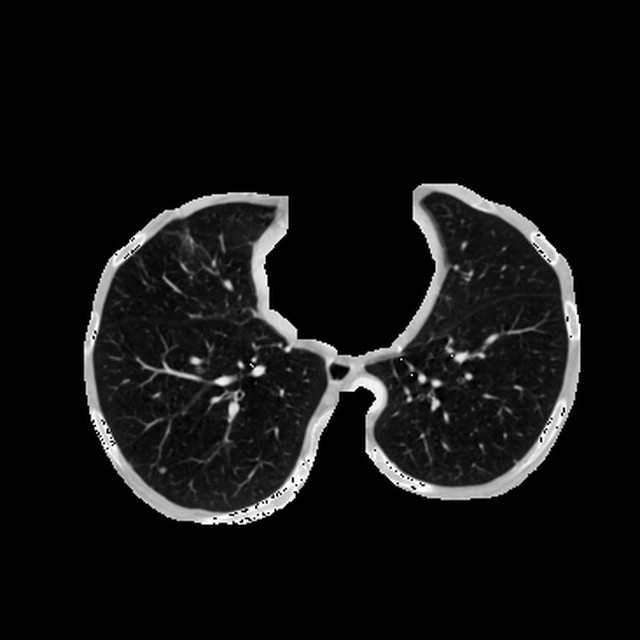PN: (159, 467, 166, 474)
